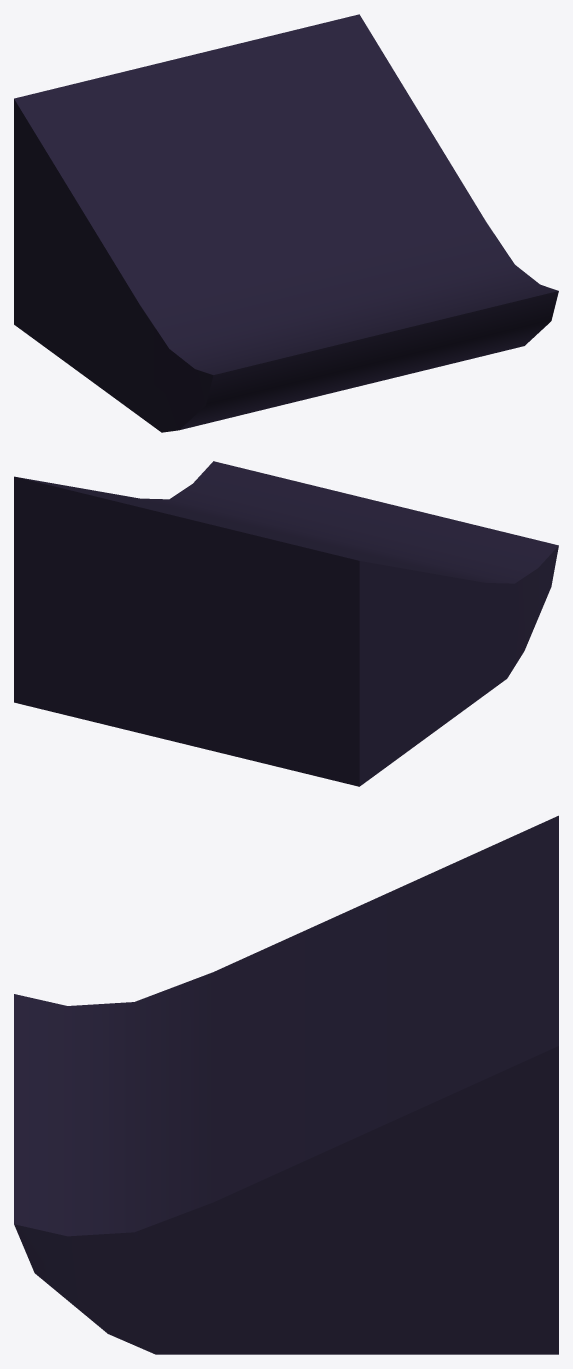
Rendered from BRoofPannel_C.fbx.
3 views of the same model, one above another, from view 1: azimuth 30°, elevation 25°; view 2: azimuth 150°, elevation 25°; view 3: azimuth 270°, elevation 25° (orthographic). The views are drawn at different scales.
Parts seen in each view (by area): view 1: BRoofPannel_C; view 2: BRoofPannel_C; view 3: BRoofPannel_C.
Boxes of the visible parts, x1=… form: BRoofPannel_C: x1=14, y1=14, x2=558, y2=432; BRoofPannel_C: x1=14, y1=461, x2=558, y2=786; BRoofPannel_C: x1=14, y1=815, x2=558, y2=1354.
Size of the model in its own units: 401 by 250 by 400.
